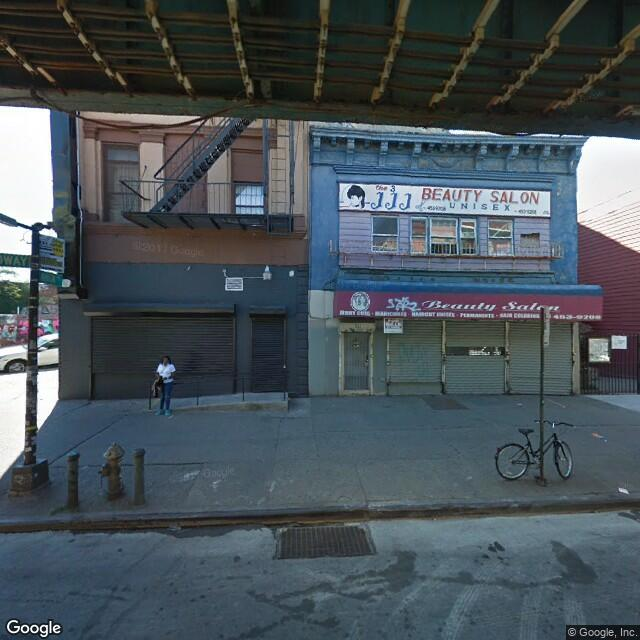litter: (614, 482, 634, 496)
